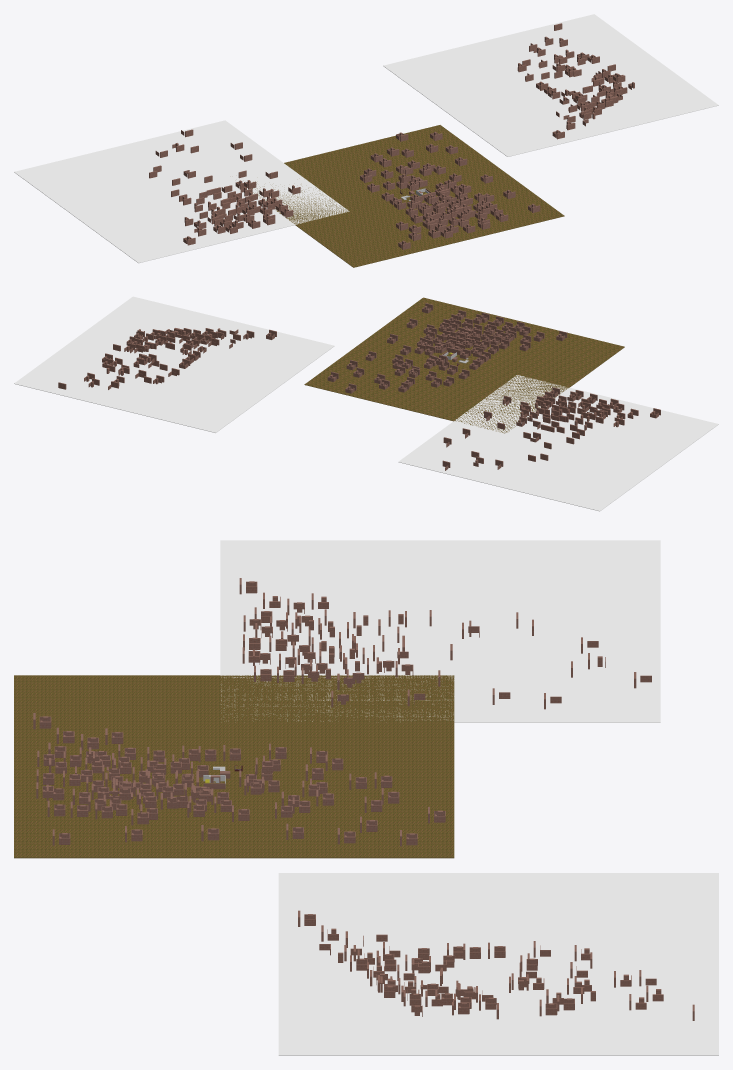
3 renders of one model, top to bottom at view 1: azimuth 30°, elevation 25°; view 2: azimuth 150°, elevation 25°; view 3: azimuth 270°, elevation 25°, orthographic. The views are drawn at different scales.
Parts seen in each view (by area): view 1: entity0_brush926, entity0_brush722, entity0_brush1150; view 2: entity0_brush926, entity0_brush722, entity0_brush1150; view 3: entity0_brush926, entity0_brush1150, entity0_brush722.
Part boxes in pixels (x1=…): entity0_brush926: x1=383, y1=14, x2=718, y2=156; entity0_brush722: x1=14, y1=120, x2=349, y2=263; entity0_brush1150: x1=248, y1=125, x2=564, y2=267; entity0_brush926: x1=14, y1=296, x2=334, y2=432; entity0_brush722: x1=398, y1=375, x2=718, y2=511; entity0_brush1150: x1=304, y1=297, x2=624, y2=433; entity0_brush926: x1=278, y1=873, x2=718, y2=1055; entity0_brush1150: x1=14, y1=675, x2=454, y2=858; entity0_brush722: x1=220, y1=540, x2=660, y2=722.
Size of the model in its own units: 56048 by 1456 by 32432.
